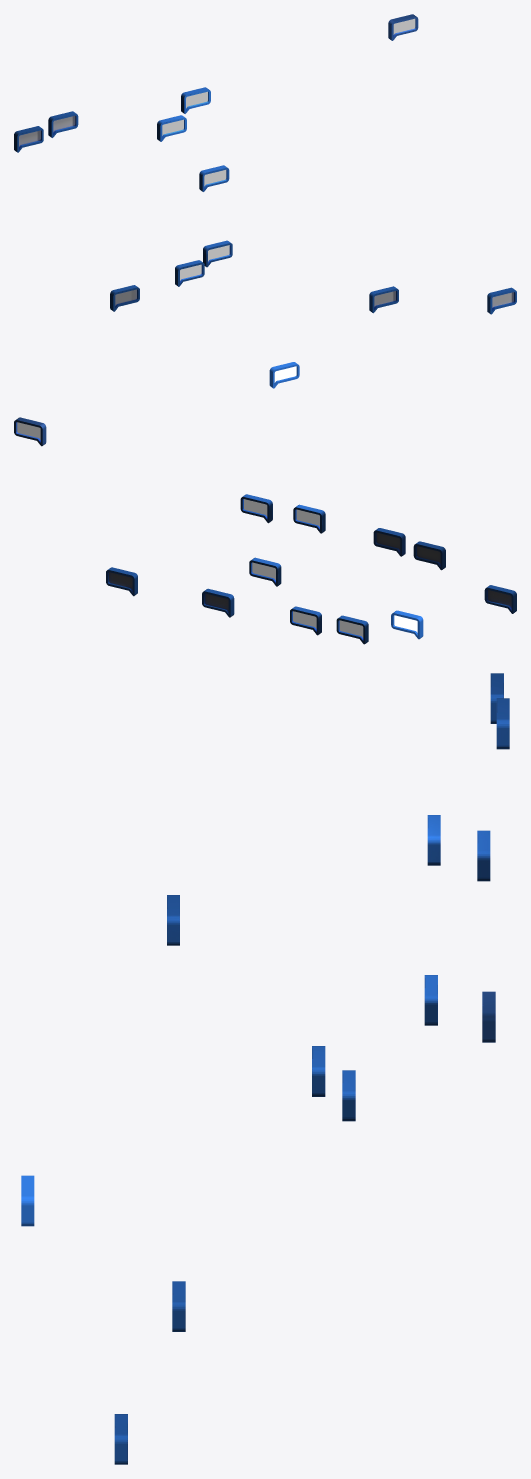
The model's file is pop_up_photography_left.glb.
3 views of the same model, one above another, from view 1: azimuth 30°, elevation 25°; view 2: azimuth 150°, elevation 25°; view 3: azimuth 270°, elevation 25° (orthographic). The views are drawn at different scales.
Parts seen in each view (by area): view 1: pop_up_running, pop_up_development, pop_up_photography_left, pop_up_languages, pop_up_social_networks, pop_up_share_knowledge, pop_up_photography_right, pop_up_art, pop_up_games, pop_up_travel, pop_up_stereoscopy, pop_up_contact_me; view 2: pop_up_share_knowledge, pop_up_travel, pop_up_running, pop_up_social_networks, pop_up_languages, pop_up_contact_me, pop_up_development, pop_up_games, pop_up_photography_left, pop_up_art, pop_up_photography_right, pop_up_stereoscopy; view 3: no part large enough to name.
Boxes of the visible parts, x1,y1,x2,y2 form: pop_up_running: [269, 362, 299, 388]; pop_up_development: [199, 165, 229, 191]; pop_up_photography_left: [48, 111, 78, 137]; pop_up_languages: [388, 14, 418, 40]; pop_up_social_networks: [157, 115, 186, 141]; pop_up_share_knowledge: [369, 286, 398, 313]; pop_up_photography_right: [487, 287, 516, 314]; pop_up_art: [14, 126, 43, 152]; pop_up_games: [110, 285, 139, 311]; pop_up_travel: [181, 87, 210, 113]; pop_up_stereoscopy: [203, 240, 232, 267]; pop_up_contact_me: [175, 260, 204, 286]; pop_up_share_knowledge: [202, 588, 234, 617]; pop_up_travel: [240, 494, 272, 523]; pop_up_running: [391, 610, 423, 639]; pop_up_social_networks: [293, 504, 325, 533]; pop_up_languages: [14, 417, 46, 446]; pop_up_contact_me: [336, 615, 368, 644]; pop_up_development: [249, 557, 281, 586]; pop_up_games: [484, 585, 516, 613]; pop_up_photography_left: [373, 528, 405, 556]; pop_up_art: [413, 541, 445, 570]; pop_up_photography_right: [106, 567, 137, 596]; pop_up_stereoscopy: [290, 606, 321, 635].
Bounding box in the file's own units: 34.1 × 18.2 × 17.78.
12 materials, 12 textured.
